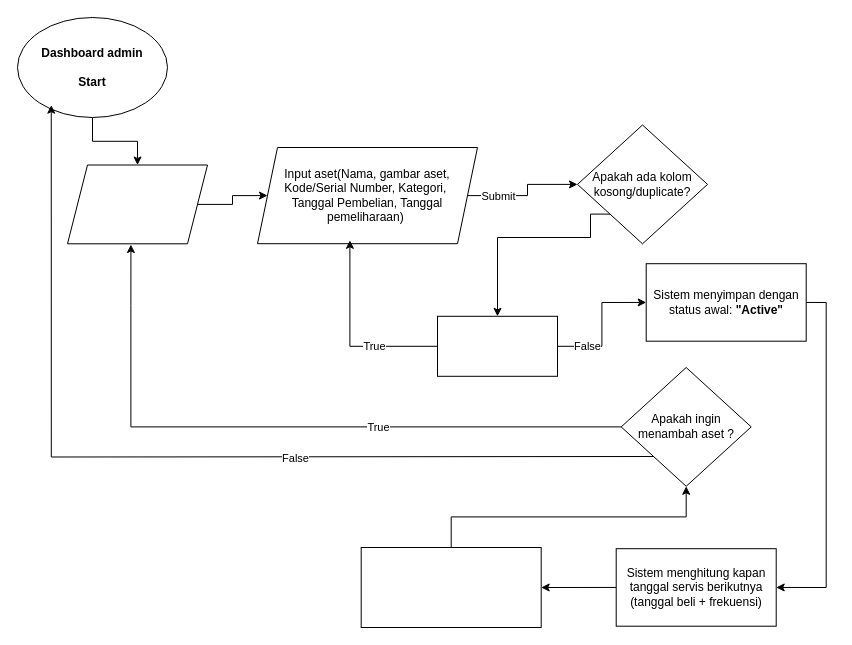
This 852x645 diagram has some shape labels left out. Here are the shapes that lost their labels. From the top down, the centre of each, then its label:
the point at 137,204: Admin memilih fitur tambah aset
the point at 497,345: Sistem cek input dari admin, dan cek database by kode/serial number
the point at 450,587: Simpan ke database
